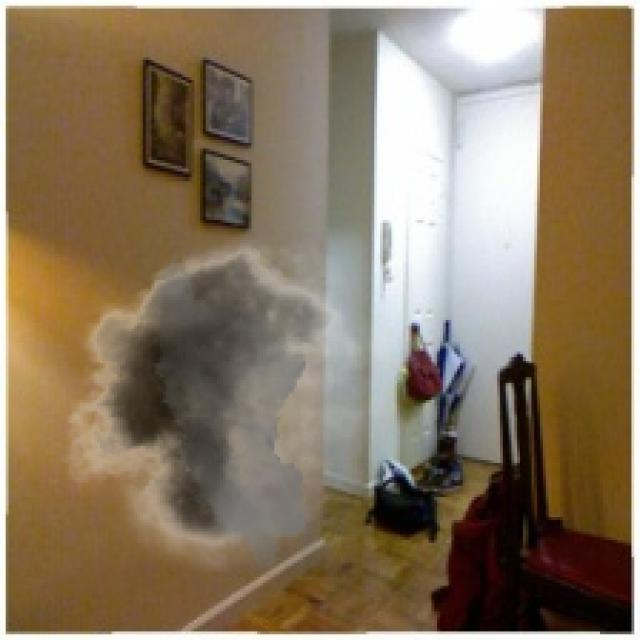Smoke: (48, 223, 400, 572)
